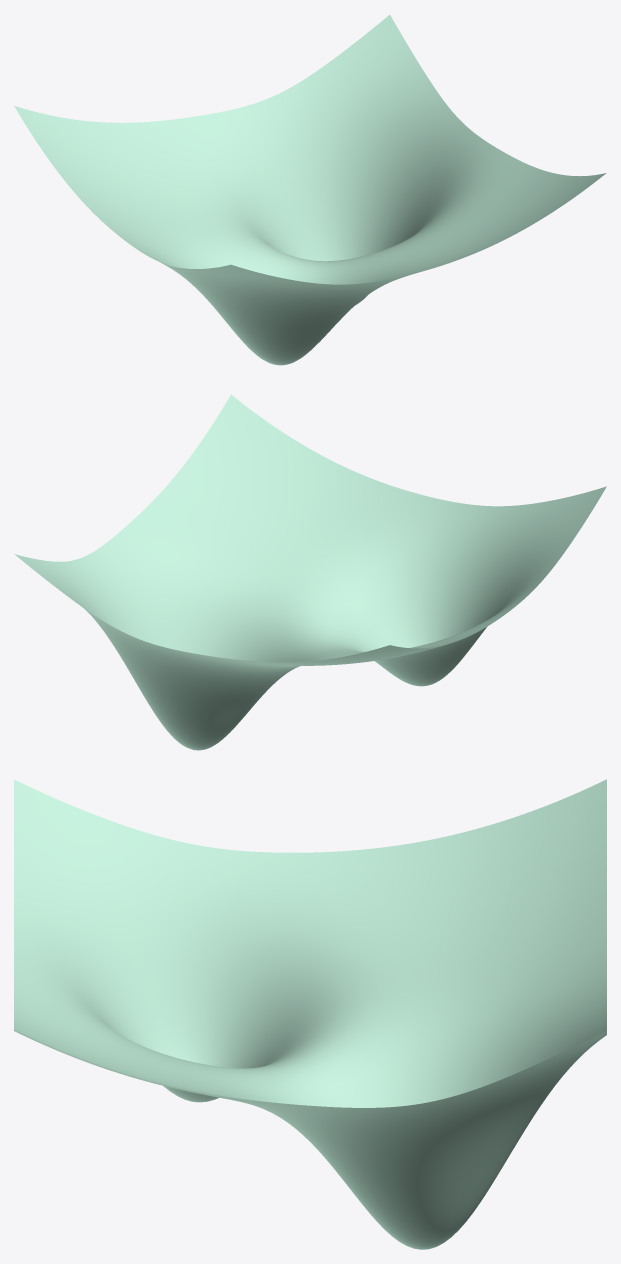
Rendered from ex_gradient_terrain.glb.
3 renders of one model, top to bottom at view 1: azimuth 30°, elevation 25°; view 2: azimuth 150°, elevation 25°; view 3: azimuth 270°, elevation 25°, orthographic. The views are drawn at different scales.
Visible parts, largest first — view 1: Gradient; view 2: Gradient; view 3: Gradient.
Part boxes in pixels (x1,y1,x2,y2): Gradient: [14, 15, 606, 365]; Gradient: [14, 394, 606, 750]; Gradient: [14, 779, 606, 1249].
Bounding box in the file's own units: 5 × 2.75 × 5.
